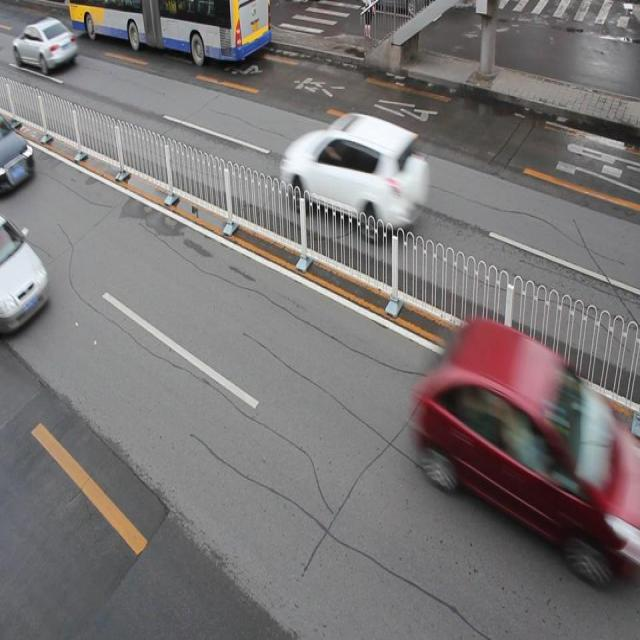car: (420, 320, 606, 562), (284, 112, 424, 240), (1, 217, 50, 335), (13, 16, 78, 74), (1, 117, 34, 194)
van: (71, 1, 272, 70)
